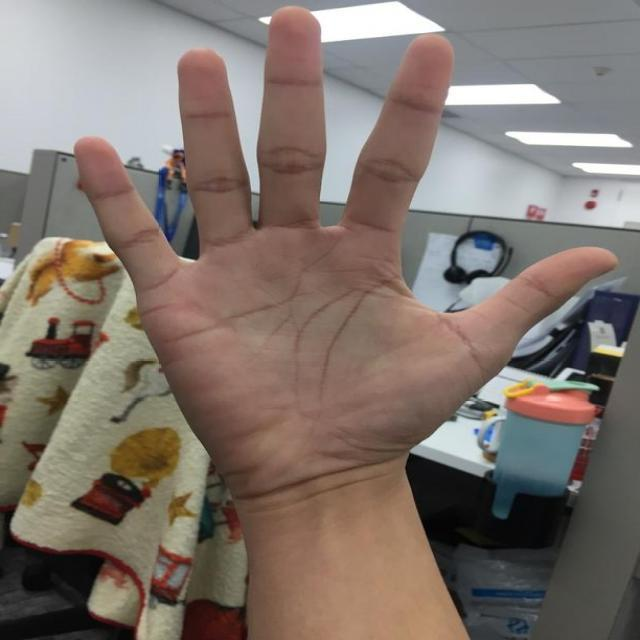hand: (73, 7, 615, 500)
